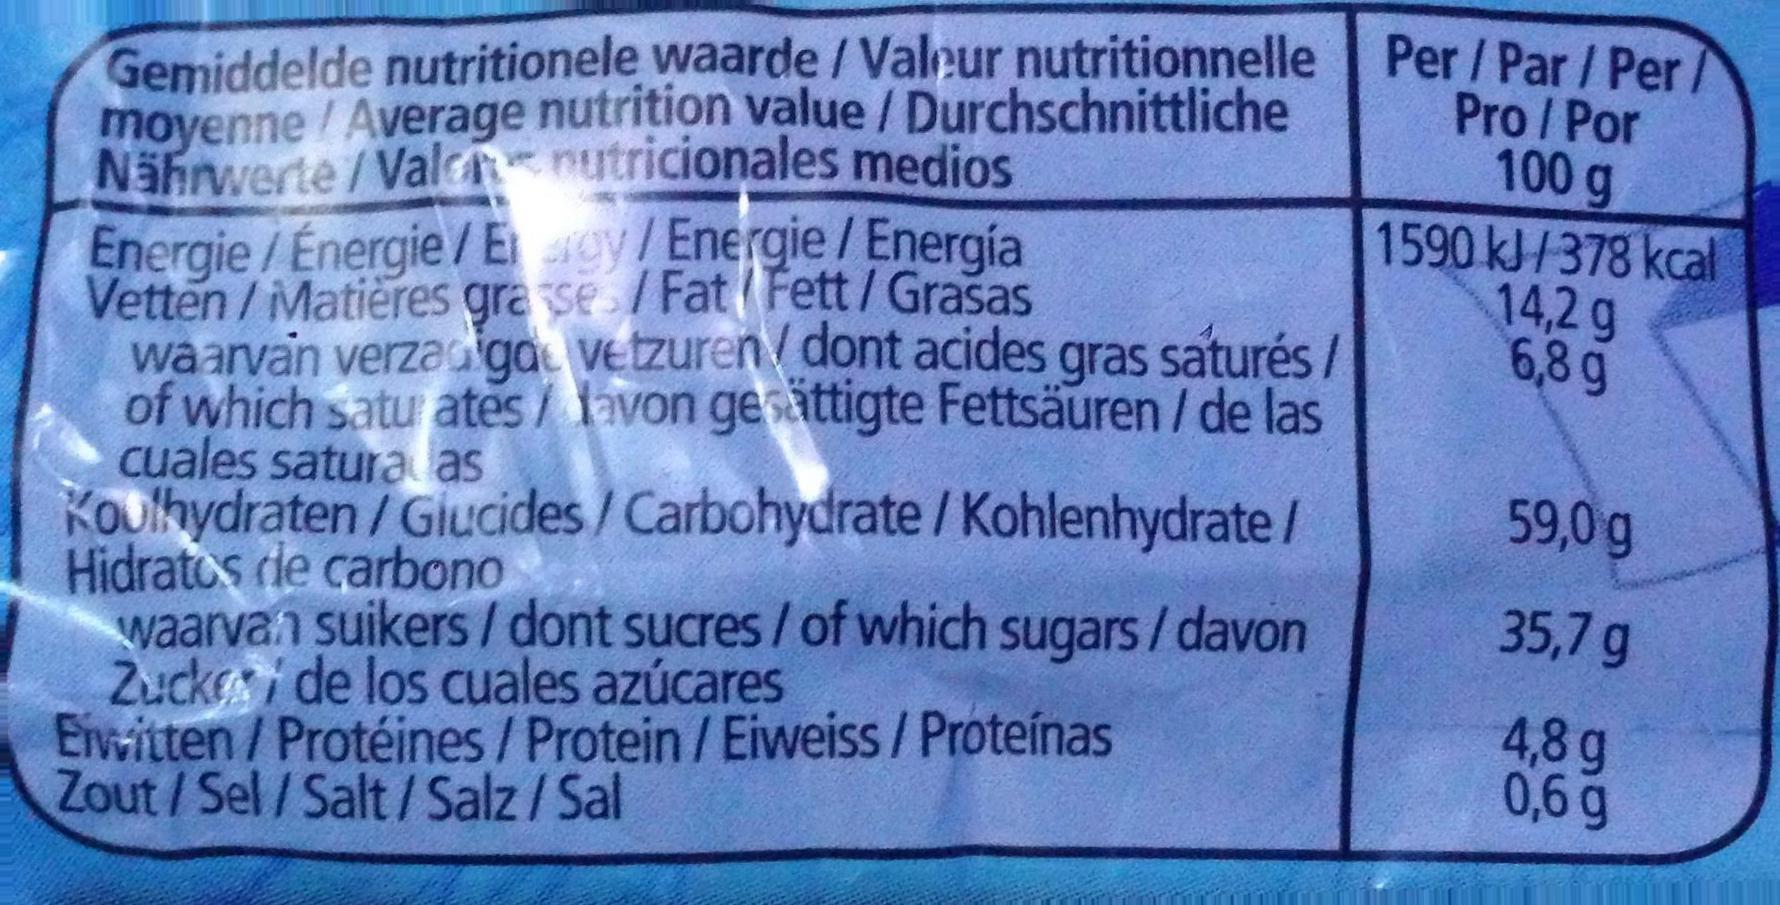column: (62, 38, 1341, 836), (1381, 29, 1728, 829)
line: (61, 35, 1712, 195), (65, 339, 1653, 477), (63, 498, 1643, 598), (62, 611, 1635, 704), (63, 229, 1728, 276), (62, 713, 1613, 763), (62, 776, 1611, 824), (67, 282, 1653, 328)
table: (10, 3, 1780, 865)
